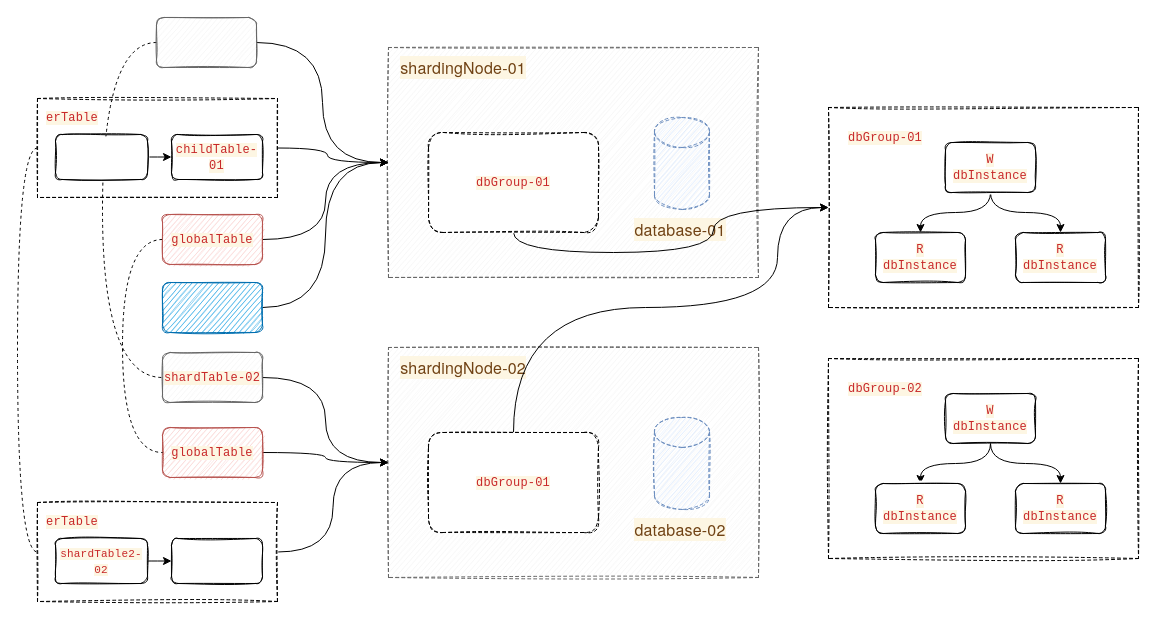
Image size: 1156x619. Some labels were removed from this diagram. The centre of each missing label's shape, as x and y in pixels:
"childTable-02" goes at point 216,561.
"shardTable-01" goes at point 206,42.
"shardTable2-01" goes at point 101,157.
"singleTable" goes at point 212,307.
